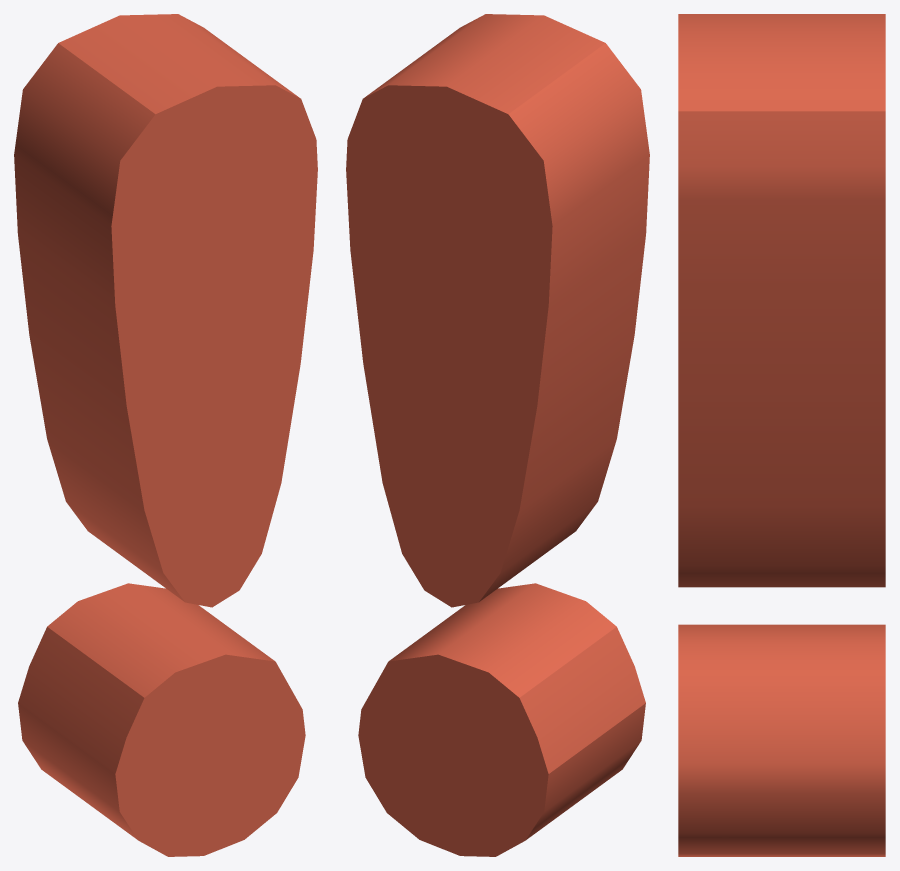
File: exclaimation mark.fbx
3 renders of one model, left to right at view 1: azimuth 30°, elevation 25°; view 2: azimuth 150°, elevation 25°; view 3: azimuth 270°, elevation 25°, orthographic. The views are drawn at different scales.
Visible parts, largest first — view 1: exclaimation_mark; view 2: exclaimation_mark; view 3: exclaimation_mark.
Boxes of the visible parts, bbox=[...] form: exclaimation_mark: bbox=[14, 14, 317, 856]; exclaimation_mark: bbox=[346, 14, 649, 856]; exclaimation_mark: bbox=[678, 14, 885, 856].
Size of the model in its own units: 3.06 by 10.85 by 2.5.
